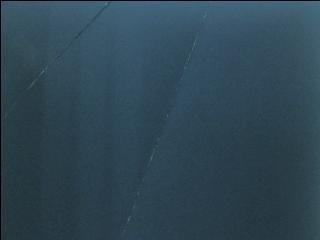crack: (105, 1, 226, 239), (0, 0, 113, 116)
